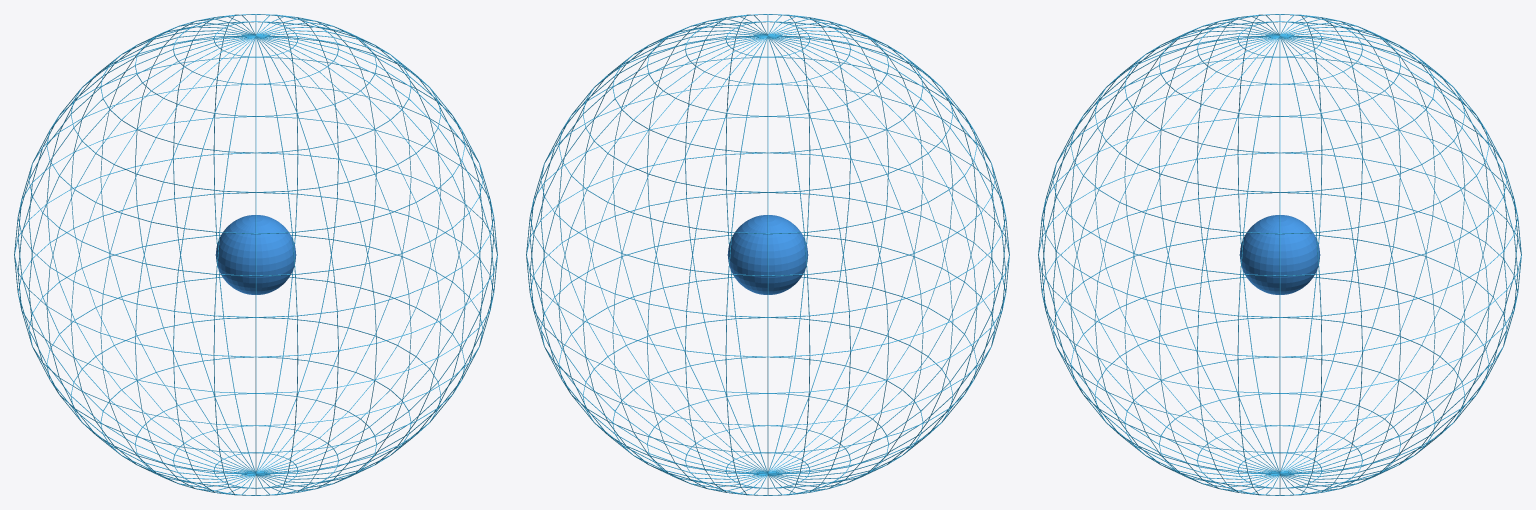
The model's file is celestial-globe.gltf.
The picture shows the model from 3 angles, left to right: view 1: azimuth 30°, elevation 25°; view 2: azimuth 150°, elevation 25°; view 3: azimuth 270°, elevation 25°; orthographic projection.
Visible parts, largest first — view 1: celSphere, earth; view 2: celSphere, earth; view 3: celSphere, earth.
Part boxes in pixels (x1,y1,x2,y2): celSphere: [14, 14, 497, 495]; earth: [215, 215, 296, 294]; celSphere: [526, 14, 1009, 495]; earth: [727, 215, 808, 294]; celSphere: [1038, 14, 1521, 495]; earth: [1239, 215, 1320, 294].
Bounding box in the file's own units: 12.02 × 12.02 × 12.02.
